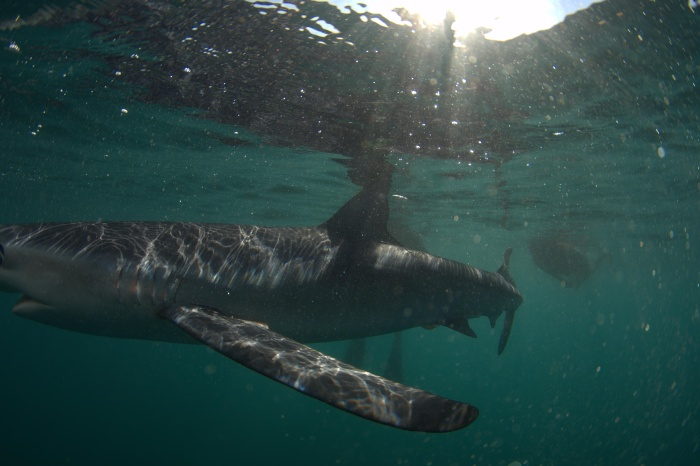Azul: (1, 160, 574, 424)
